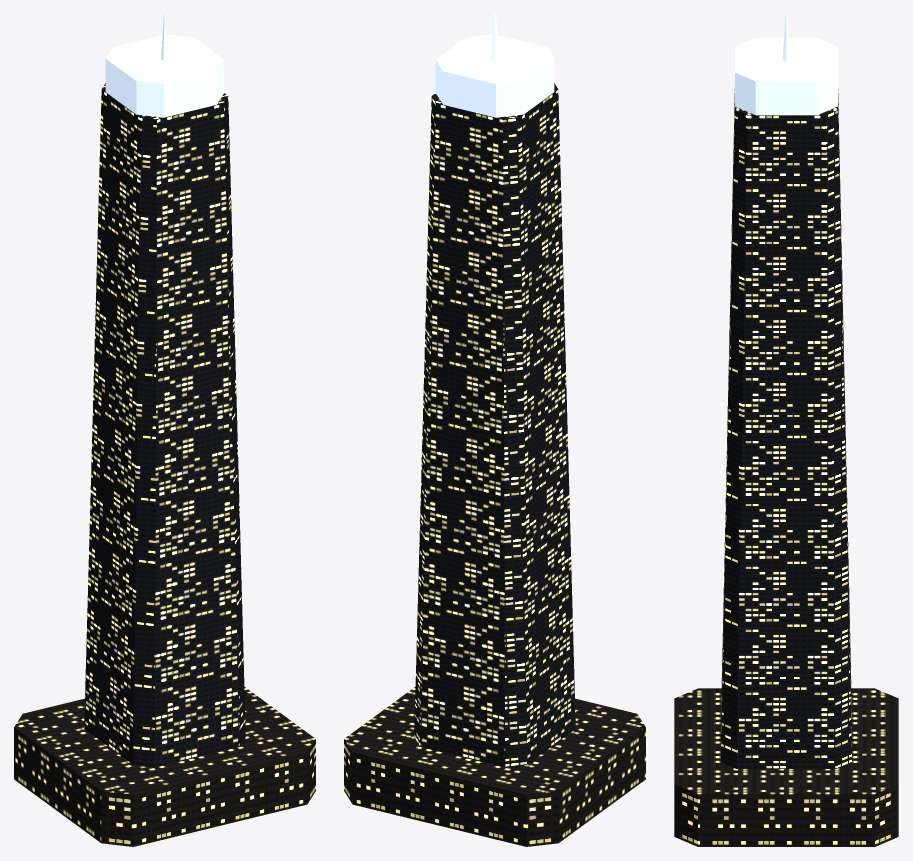
File: guoco-tower.glb
The picture shows the model from 3 angles, left to right: view 1: azimuth 30°, elevation 25°; view 2: azimuth 150°, elevation 25°; view 3: azimuth 270°, elevation 25°; orthographic projection.
Visible parts, largest first — view 1: shaft, podium, crown; view 2: shaft, podium, crown; view 3: shaft, podium, crown.
Part boxes in pixels (x1,y1,x2,y2): shaft: (84,83,245,767); podium: (14,687,315,846); crown: (105,34,224,117); shaft: (414,83,575,767); podium: (344,687,645,846); crown: (435,34,554,117); shaft: (721,88,851,768); podium: (674,688,898,846); crown: (735,38,837,115).
Size of the model in its own units: 87.4 by 300 by 78.2.
3 materials, 2 textured.
